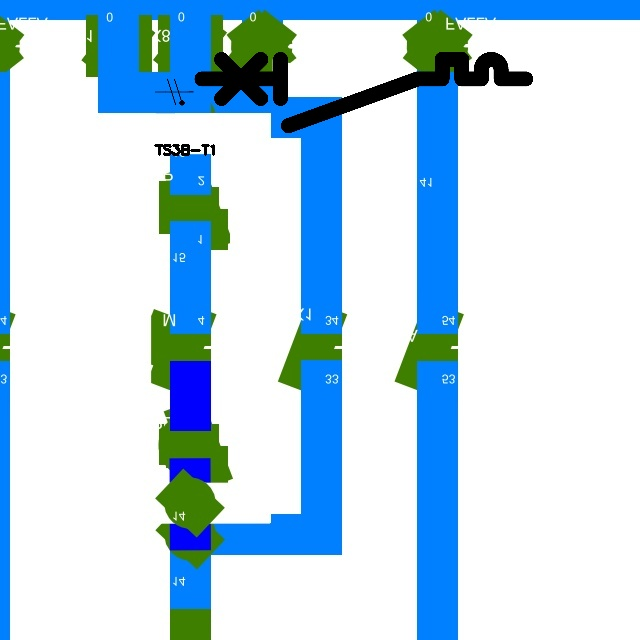interruptor_termomagnetico: (193, 51, 534, 134)
